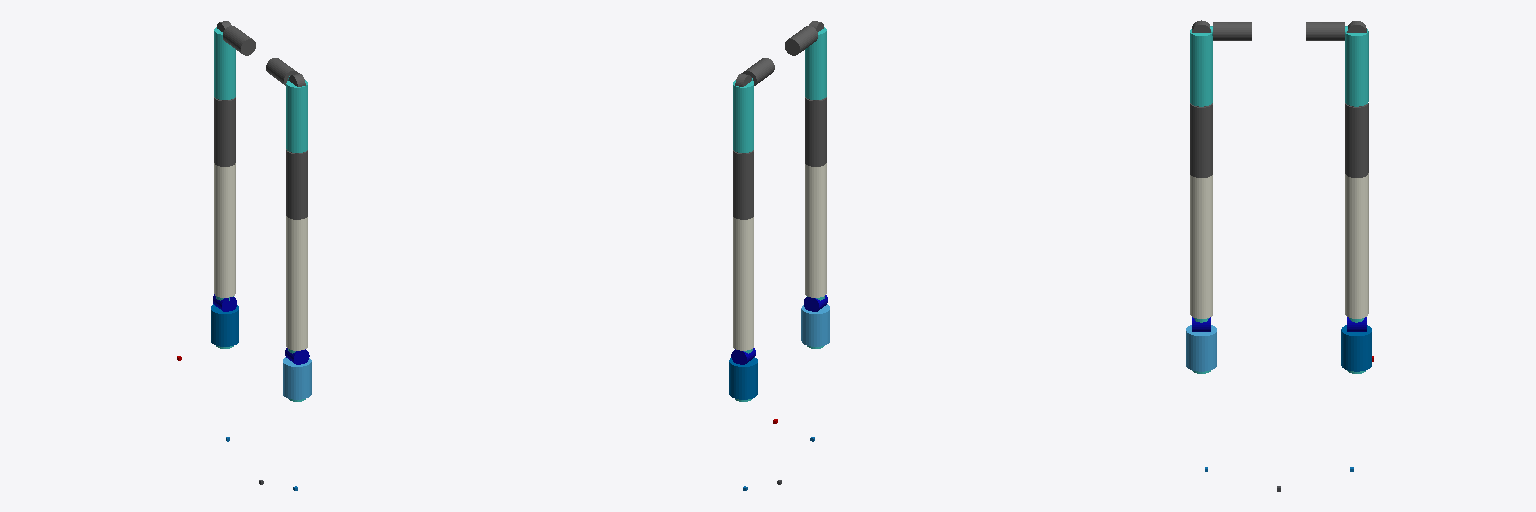
--- Render facts (derived) ---
Views: 3 orthographic renders of the robot side by side, from view 1: azimuth 30°, elevation 25°; view 2: azimuth 150°, elevation 25°; view 3: azimuth 270°, elevation 25°.
Model buff_digit with 51 links and 50 joints (12 revolute, 18 continuous, 20 fixed), rooted at footprint, posed all joints at 0.
Visible links, largest first — view 1: right_link4, left_link4, right_link2, right_link3, left_link3, left_link2, right_gripper_base, left_gripper_base, left_attach; view 2: right_link4, left_link4, right_link3, left_link2, left_link3, right_link2, left_gripper_base, right_gripper_base, right_attach; view 3: left_link4, right_link4, left_link2, left_link3, right_link2, right_link3, right_gripper_base, left_gripper_base, right_attach, left_attach.
Boxes of the visible links, x1=… form: right_link4: x1=286, y1=216, x2=307, y2=350; left_link4: x1=214, y1=163, x2=235, y2=297; right_link2: x1=286, y1=80, x2=307, y2=152; right_link3: x1=286, y1=149, x2=307, y2=219; left_link3: x1=214, y1=97, x2=235, y2=166; left_link2: x1=214, y1=27, x2=235, y2=99; right_gripper_base: x1=283, y1=357, x2=311, y2=399; left_gripper_base: x1=211, y1=304, x2=238, y2=346; left_attach: x1=223, y1=26, x2=255, y2=55; right_link4: x1=805, y1=163, x2=826, y2=297; left_link4: x1=733, y1=217, x2=753, y2=350; right_link3: x1=805, y1=97, x2=826, y2=166; left_link2: x1=733, y1=80, x2=753, y2=152; left_link3: x1=733, y1=150, x2=753, y2=219; right_link2: x1=805, y1=27, x2=826, y2=99; left_gripper_base: x1=729, y1=357, x2=757, y2=399; right_gripper_base: x1=801, y1=304, x2=829, y2=346; right_attach: x1=785, y1=26, x2=817, y2=55; left_link4: x1=1345, y1=173, x2=1368, y2=318; right_link4: x1=1190, y1=175, x2=1212, y2=318; left_link2: x1=1345, y1=29, x2=1368, y2=106; left_link3: x1=1345, y1=103, x2=1368, y2=177; right_link2: x1=1190, y1=29, x2=1212, y2=106; right_link3: x1=1190, y1=103, x2=1212, y2=177; right_gripper_base: x1=1186, y1=325, x2=1216, y2=371; left_gripper_base: x1=1341, y1=325, x2=1371, y2=371; right_attach: x1=1213, y1=22, x2=1251, y2=40; left_attach: x1=1306, y1=22, x2=1344, y2=40.
Bounding box of the posed robot: 0.3651 × 0.4839 × 1.33 m (x, y, z).
Meshes: 9 distinct files referenced, 0 mesh visuals loaded (none loaded); not drawn: 17 (reference not matched to a file when rendering).

robot.urdf — buff_digit:
<robot name="buff_digit" >

  <material name="black">
    <color rgba="0.2 0.2 0.2 1.0"/>
  </material>
  <material name="blue">
    <color rgba="1.0 1.0 1.0 1.0"/>
  </material>
  <material name="green">
    <color rgba="1.0 1.0 1.0 1.0"/>
  </material>
  <material name="grey">
    <color rgba="0.4 0.4 0.4 1.0"/>
  </material>
  <material name="silver">
    <color rgba="0.913725490196 0.913725490196 0.847058823529 1.0"/>
  </material>
  <material name="orange">
    <color rgba="1.0 1.0 1.0 1.0"/>
  </material>
  <material name="brown">
    <color rgba="0.870588235294 0.811764705882 0.764705882353 1.0"/>
  </material>
  <material name="red">
    <color rgba="1.0 1.0 1.0 1.0"/>
  </material>
  <material name="white">
    <color rgba="1.0 1.0 1.0 1.0"/>
  </material>
  <material name="scarlet">
    <color rgba="0.28 0.82 0.8 1"/>
  </material>




<link name="torso">
    <inertial>
      <origin rpy="0 0 0" xyz="0.001637 0.0002 0.259547"/>
      <mass value="0.028392"/>
      <inertia ixx="0.376284" ixy="-8.8e-05" ixz="0.008378" iyy="0.342655" iyz="6.7e-05" izz="0.100648"/>
    </inertial>
    <visual>
      <origin rpy="0 0 0" xyz="0 0 0"/>
      <geometry>
        <mesh filename="stl/torso.stl"/>
      </geometry>
      <material name="scarlet"/> 
    </visual>
    <collision>
      <origin rpy="0 0 0" xyz="0 0 0"/>
      <geometry>
        <mesh filename="stl/torso.stl"/>
      </geometry>
    </collision>
  </link>


 
  <!-- LEGS -->
  <link name="left_hip_roll">
    <inertial>
      <origin rpy="0 0 0" xyz="-0.001967 0.000244 0.031435"/>
      <mass value="0.915088"/>
      <inertia ixx="0.001017" ixy="-3e-06" ixz="1.3e-05" iyy="0.001148" iyz="-4e-06" izz="0.000766"/>
    </inertial>
    <visual>
      <origin rpy="0 0 0" xyz="0 0 0"/>
      <geometry>
        <mesh filename="stl/hip-yaw-housing.stl"/>
      </geometry>
      <material name="grey">
        <color rgba="0.35 0.35 0.35 1"/>
      </material>
    </visual>
    <collision>
      <origin rpy="0 0 0" xyz="0 0 0"/>
      <geometry>
        <mesh filename="stl/hip-yaw-housing.stl"/>
      </geometry>
    </collision>
  </link>
  <link name="left_hip_yaw">
    <inertial>
      <origin rpy="0 0 0" xyz="1e-05 -0.001945 0.042033"/>
      <mass value="0.818753"/>
      <inertia ixx="0.001627" ixy="-1e-06" ixz="2e-06" iyy="0.001929" iyz="5.3e-05" izz="0.00077"/>
    </inertial>
    <visual>
      <origin rpy="0 0 0" xyz="0 0 0"/>
      <geometry>
        <mesh filename="stl/hip-pitch-housing.stl"/>
      </geometry>
      <material name="light_grey">
        <color rgba="0.75 0.75 0.75 1"/>
      </material>
    </visual>
     <collision>
      <origin rpy="0 0 0" xyz="0 0 0"/>
      <geometry>
        <mesh filename="stl/hip-pitch-housing.stl"/>
      </geometry>
    </collision>
  </link>
  <link name="left_hip_pitch">
    <inertial>
      <origin rpy="0 0 0" xyz="0.060537 0.000521 -0.038857"/>
      <mass value="6.244279"/>
      <inertia ixx="0.011533" ixy="-0.000171" ixz="0.000148" iyy="0.033345" iyz="0.000178" izz="0.033958"/>
    </inertial>
    <visual>
      <origin rpy="0 0 0" xyz="0 0 0"/>
      <geometry>
        <mesh filename="stl/hip-pitch.stl"/>
      </geometry>
      <material name="scarlet"/> 
    </visual>
    <collision>
      <origin rpy="0 0 0" xyz="0 0 0"/>
      <geometry>
        <mesh filename="stl/hip-pitch.stl"/>
      </geometry>
    </collision>
  </link>
  <link name="left_knee">
    <inertial>
      <origin rpy="0 0 0" xyz="0.045641 0.042154 0.001657"/>
      <mass value="1.227077"/>
      <inertia ixx="0.002643" ixy="-0.001832" ixz="6.6e-05" iyy="0.005098" iyz="4.5e-05" izz="0.007019"/>
    </inertial>
    <visual>
      <origin rpy="0 0 0" xyz="0 0 0"/>
      <geometry>
        <mesh filename="stl/knee.stl"/>
      </geometry>
      <material name="grey">
        <color rgba="0.35 0.35 0.35 1"/>
      </material>
    </visual>
    <collision>
      <origin rpy="0 0 0" xyz="0 0 0"/>
      <geometry>
        <mesh filename="stl/knee.stl"/>
      </geometry>
    </collision>
  </link>
  <link name="left_shin">
    <inertial>
      <origin rpy="0 0 0" xyz="0.174265 0.010265 0.00107"/>
      <mass value="0.895793"/>
      <inertia ixx="0.001128" ixy="0.001098" ixz="0.000196" iyy="0.022492" iyz="-3e-06" izz="0.022793"/>
    </inertial>
    <visual>
      <origin rpy="0 0 0" xyz="0 0 0"/>
      <geometry>
        <mesh filename="stl/shin.stl"/>
      </geometry>
      <material name="scarlet"/> 
    </visual>
    <collision>
      <origin rpy="0 0 0" xyz="0 0 0"/>
      <geometry>
        <mesh filename="stl/shin.stl"/>
      </geometry>
    </collision>
  </link>
 <link name="left_tarsus">
    <inertial>
      <origin rpy="0 0 0" xyz="0.000932 -0.029183 0.000678"/>
      <mass value="1.322865"/>
      <inertia ixx="0.000932" ixy="0.00061" ixz="0.000102" iyy="0.016409" iyz="9e-06" izz="0.016501"/>
    </inertial>
    <visual>
      <origin rpy="0 0 0" xyz="0 0 0"/>
      <geometry>
        <mesh filename="stl/tarsus.stl"/>
      </geometry>
      <material name="grey">
        <color rgba="0.35 0.35 0.35 1"/>
      </material>
    </visual>
    <collision>
      <origin rpy="0 0 0" xyz="0 0 0"/>
      <geometry>
        <!-- <mesh filename="stl/tarsus.stl"/> -->
        <box size="0.01 0.01 0.01"/>
      </geometry>
    </collision>
  </link>
  <link name="left_toe_pitch">
    <inertial>
      <origin rpy="0 0 0" xyz="-0.000141 2e-06 3e-06"/>
      <mass value="0.043881"/>
      <inertia ixx="5e-06" ixy="0" ixz="0" iyy="8e-06" iyz="0" izz="5e-06"/>
    </inertial>
    <visual>
      <origin rpy="0 0 0" xyz="0 0 0"/>
      <geometry>
        <mesh filename="stl/toe-pitch.stl"/>
      </geometry>
      <material name="light_grey">
        <color rgba="0.75 0.75 0.75 1"/>
      </material>
    </visual>
    <collision>
      <origin rpy="0 0 0" xyz="0 0 0"/>
      <geometry>
        <!-- <mesh filename="stl/toe-pitch.stl"/> -->
        <box size="0.001 0.001 0.001"/>
      </geometry>
    </collision>
  </link>
  <link name="left_toe_roll">
    <inertial>
      <origin rpy="0 0 0" xyz="9e-06 -0.028084 -0.023204"/>
      <mass value="0.531283"/>
      <inertia ixx="0.00187" ixy="0" ixz="0" iyy="0.001616" iyz="0.000566" izz="0.000843"/>
    </inertial>
    <visual>
      <origin rpy="0 0 0" xyz="0 0 0"/>
      <geometry>
        <mesh filename="stl/toe-roll.stl"/>
      </geometry>
      <material name="light_grey">
        <color rgba="0.75 0.75 0.75 1"/>
      </material>
    </visual>
    <collision>
      <origin rpy="0 0 0" xyz="0 0 0"/>
      <geometry>
        <!-- <mesh filename="stl/toe-roll.stl"/> -->
        <box size="0.01 0.01 0.01"/>
      </geometry>
    </collision>
  </link>



  <!-- left arm -->
    
 <joint name="left_attach_to_torso" type="fixed">
    <origin rpy="0 0 0" xyz="-0.001 0.12 0.4"/>
     <parent link="torso"/>
    <child link="left_attach"/>
   </joint>

<link name="left_attach">
    <inertial>
      <origin rpy="0 0 0" xyz="0 0 0"/>
       <mass value=".01"/>
       <inertia ixx="0" ixy="0" ixz="0" iyy="0" iyz="0" izz="0"/>
    </inertial>
    <visual>
      <origin rpy="1.5707  0 0" xyz="0 0 0"/>
      <geometry>
        <cylinder radius="0.025" length="0.1"/>
      </geometry>
       <material name="grey"/>
    </visual>
    <collision>
      <origin rpy="1.5707 0 0" xyz="0 0 0"/>
      <geometry>
        <cylinder radius="0.025" length="0.1"/>
      </geometry>
    </collision>
  </link>

  <joint name="left_arm_to_left_attach" type="fixed">
    <origin rpy="0 0 0" xyz="0 0 0"/>
     <parent link="left_attach"/>
    <child link="left_jlink0"/>
   </joint>

 <link name="left_jlink0">
    <inertial>
      <origin rpy="0 0 0" xyz="0 0 0"/>
       <mass value=".01"/>
       <inertia ixx="0" ixy="0" ixz="0" iyy="0" iyz="0" izz="0"/>
    </inertial>
    <visual>
      <origin rpy="1.5707  0 0" xyz="0 0 0"/>
      <geometry>
        <cylinder radius="0.025" length="0.025"/>
      </geometry>
       <material name="grey"/>
    </visual>
    <collision>
      <origin rpy="1.5707 0 0" xyz="0 0 0"/>
      <geometry>
        <cylinder radius="0.025" length="0.025"/>
      </geometry>
    </collision>
  </link>

  <link name="left_link1">
    <inertial>
      <origin rpy="0 0 0" xyz="0 0 0"/>
       <mass value=".000000001"/>
       <inertia ixx="0" ixy="0" ixz="0" iyy="0" iyz="0" izz="0"/>
    </inertial>
    <visual>
      <origin rpy="1.5707 0 0" xyz="0 0 0"/>
      <geometry>
       <cylinder radius="0.0125" length="0.08"/>
       <!-- <box size = "0.025 0.08 0.025"/> -->
      </geometry>
       <material name="scarlet"/> 
    </visual>
    <collision>
      <origin rpy="1.5707 0 0" xyz="0 0 0"/>
      <geometry>
       <cylinder radius="0.0125" length="0.08"/>
      </geometry>
    </collision>
  </link>

  <joint name="left_joint1f" type="revolute"> 
    <parent link="left_jlink0"/>
    <child link="left_link1"/>
    <origin rpy="0 0 0" xyz="0 0.04 0.0"/>  
    <axis xyz="0 1 0"/>
    <limit lower="-3.1415" upper="3.1415" effort="1.4" velocity="0.25"/>
  </joint>

  <link name="left_jlink1">
    <inertial>
      <origin rpy="0 0 0" xyz="0 0 0"/>
       <mass value=".01"/>
       <inertia ixx="0" ixy="0" ixz="0" iyy="0" iyz="0" izz="0"/>
    </inertial>
    <visual>
      <origin rpy="0 1.5707 0" xyz="0 0 0"/>
      <geometry>
        <cylinder radius="0.025" length="0.025"/>
      </geometry>
       <material name="grey"/>
    </visual>
    <collision>
      <origin rpy="0 1.5707 0" xyz="0 0 0"/>
      <geometry>
        <cylinder radius="0.025" length="0.025"/>
      </geometry>
    </collision>
</link>

  <joint name="left_joint1" type="revolute">
    <parent link="left_link1"/>
    <child link="left_jlink1"/>
    <origin rpy="0 0 0" xyz="0 0.04 0"/> 
    <axis xyz="1 0 0"/>
    <limit lower="-3.1415" upper="3.1415" effort="1.4" velocity="0.25"/>  
  </joint>

  <link name="left_link2">
    <inertial>
      <origin rpy="0 0 0" xyz="0 0 0"/>
       <mass value=".000000001"/>
       <inertia ixx="0" ixy="0" ixz="0" iyy="0" iyz="0" izz="0"/>
    </inertial>
    <visual>
      <origin rpy="0 0 0" xyz="0 0 0"/>
      <geometry>
       <cylinder radius="0.03" length="0.2"/>
      </geometry>
       <material name="scarlet"/> 
    </visual>
    <collision>
      <origin rpy="0 0 0" xyz="0 0 0"/>
      <geometry>
       <cylinder radius="0.03" length="0.2"/>
      </geometry>
    </collision>
</link>

<joint name="left_joint2f" type="fixed">
    <parent link="left_jlink1"/>
    <child link="left_link2"/>
    <origin rpy="0 0 0" xyz="0 0  -0.1"/> 
    <!-- <axis xyz="1 0 0"/>
    <limit lower="-3.1415" upper="3.1415" effort="1.4" velocity="0.25"/> -->    
</joint>

<link name="left_jlink2">
    <inertial>
      <origin rpy="0 0 0" xyz="0 0 0"/>
       <mass value=".01"/>
       <inertia ixx="0" ixy="0" ixz="0" iyy="0" iyz="0" izz="0"/>
    </inertial>
    <visual>
      <origin rpy="0 0 0" xyz="0 0 0"/>
      <geometry>
        <cylinder radius="0.025" length="0.025"/>
      </geometry>
       <material name="grey"/>
    </visual>
    <collision>
      <origin rpy="0 0 0" xyz="0 0 0"/>
      <geometry>
        <cylinder radius="0.025" length="0.025"/>
      </geometry>
    </collision>
</link>

<joint name="left_joint2" type="fixed">
    <parent link="left_link2"/>
    <child link="left_jlink2"/>
    <origin rpy="0 0 0" xyz="0 0 -0.1"/> 
    <!-- <axis xyz="0 0 1"/>
    <limit lower="-3.1415" upper="3.1415" effort="1.4" velocity="0.25"/>   -->
  </joint>

  <link name="left_link3">
    <inertial>
      <origin rpy="0 0 0" xyz="0 0 0"/>
       <mass value=".000000001"/>
       <inertia ixx="0" ixy="0" ixz="0" iyy="0" iyz="0" izz="0"/>
    </inertial>
    <visual>
      <origin rpy="0 0 0" xyz="0 0 0"/>
      <geometry>
       <cylinder radius="0.03" length="0.2"/>
      </geometry>
       <material name="grey"/> 
    </visual>
    <collision>
      <origin rpy="0 0 0" xyz="0 0 0"/>
      <geometry>
       <cylinder radius="0.03" length="0.2"/>
      </geometry>
    </collision>
</link>

<joint name="left_joint3f" type="fixed">
    <parent link="left_jlink2"/>
    <child link="left_link3"/>
    <origin rpy="0 0 0" xyz="0 0  -0.1035"/>   
</joint>

<link name="left_jlink3">
    <inertial>
      <origin rpy="0 0 0" xyz="0 0 0"/>
       <mass value=".01"/>
       <inertia ixx="0" ixy="0" ixz="0" iyy="0" iyz="0" izz="0"/>
    </inertial>
    <visual>
      <origin rpy="0 1.5707 0" xyz="0 0 0"/>
      <geometry>
        <cylinder radius="0.025" length="0.025"/>
      </geometry>
       <material name="scarlet"/>
    </visual>
    <collision>
      <origin rpy="0 1.5707 0" xyz="0 0 0"/>
      <geometry>
        <cylinder radius="0.025" length="0.025"/>
      </geometry>
    </collision>
</link>

<joint name="left_joint3" type="revolute">
    <parent link="left_link3"/>
    <child link="left_jlink3"/>
    <origin rpy="0 0 0" xyz="0 0.0 -0.1"/> 
    <axis xyz="1 0 0"/>
    <limit lower="-3.1415" upper="3.1415" effort="1.4" velocity="0.25"/>  
  </joint>

  <link name="left_link4">
    <inertial>
      <origin rpy="0 0 0" xyz="0 0 0"/>
       <mass value=".000000001"/>
       <inertia ixx="0" ixy="0" ixz="0" iyy="0" iyz="0" izz="0"/>
    </inertial>
    <visual>
      <origin rpy="0 0 0" xyz="0 0 0"/>
      <geometry>
       <cylinder radius="0.03" length="0.4"/>
      </geometry>
       <material name="silver"/> 
    </visual>
    <collision>
      <origin rpy="0 0 0" xyz="0 0 0"/>
      <geometry>
       <cylinder radius="0.03" length="0.4"/>
      </geometry>
    </collision>
</link>

<joint name="left_joint4f" type="fixed">
    <parent link="left_jlink3"/>
    <child link="left_link4"/>
    <origin rpy="0 0 0" xyz="0 0  -0.2"/>   
</joint>

<link name="left_jlink4">
    <inertial>
      <origin rpy="0 0 0" xyz="0.107996 0.000521 -0.017765"/>
      <mass value="0.550582"/>
      <inertia ixx="0.000476" ixy="-2.9e-05" ixz="0.001403" iyy="0.009564" iyz="-1.5e-05" izz="-9e-06"/>
    </inertial>
    <visual>
      <origin rpy="0 0 0 " xyz="0 0 0"/>
      <geometry>
        <cylinder radius="0.025" length="0.025"/>
      </geometry>
      <material name="scarlet"/> 
    </visual>
    <collision>
      <origin rpy="0 0 0" xyz="0 0 0"/>
      <geometry>
        <cylinder radius="0.025" length="0.025"/>
      </geometry>
    </collision>
</link>

<joint name="left_joint4" type="revolute">
    <origin rpy="0 0 0" xyz="0.0 0.0 -0.2"/>
    <parent link="left_link4"/>
    <child link="left_jlink4"/>
    <axis xyz="0 0 1"/>
    <limit effort="1.4" lower="-1.57" upper="1.57" velocity="10"/>
  </joint>

<link name="left_wrist">
    <inertial>
      <origin rpy="0 0 0" xyz="0.107996 0.000521 -0.017765"/>
      <mass value="0.550582"/>
      <inertia ixx="0.000476" ixy="-2.9e-05" ixz="0.001403" iyy="0.009564" iyz="-1.5e-05" izz="-9e-06"/>
    </inertial>
    <visual>
      <origin rpy="0 1.5707 1.5707 " xyz="0 0 0"/>
      <geometry>
        <cylinder radius="0.025" length="0.05"/>
      </geometry>
      <material name="blue">
        <color rgba="0.05 0.05 0.75 0.9"/>
      </material>
    </visual>
    <collision>
      <origin rpy="0 1.5707 1.5707" xyz="0 0 0"/>
      <geometry>
        <cylinder radius="0.025" length="0.05"/>
      </geometry>
    </collision>
  </link>
  <joint name="left_wrist_joint" type="revolute">
    <origin rpy="0 1.5707 0" xyz="0.0 0.0 -0.025"/>
    <parent link="left_jlink4"/>
    <child link="left_wrist"/>
    <axis xyz="0 1 0"/>
    <limit effort="1.4" lower="-1.57" upper="1.57" velocity="10"/>
  </joint>

  <link name="left_gripper_base">
    <inertial>
      <origin rpy="0 0 0" xyz="0 0 0"/>
      <mass value="0.2"/>
      <inertia ixx="0.0001" ixy="0" ixz="0" iyy="0.0001" iyz="0" izz="0.0001"/>
    </inertial>
    <visual>
      <origin rpy="0 1.5707 0" xyz="0 0 0"/>
      <geometry>
        <!-- <mesh filename="[local-path]/garage/kfp_v2/morpheus/models/yumi_description/meshes/gripper/base.stl"/> -->
        <cylinder radius="0.04" length="0.1"/>
      </geometry>
      <material name="Light_Grey"/>
    </visual>
    <collision>
      <origin rpy="0 1.5707 0" xyz="0 0 0"/>
      <geometry>
        <!-- <mesh filename="[local-path]/garage/kfp_v2/morpheus/models/yumi_description/meshes/gripper/coarse/base.stl"/> -->
       <cylinder radius="0.04" length="0.1"/>
      </geometry>
      <material name="Light_Grey"/>
    </collision>
  </link>

  <joint name="gripper_left_wrist_joint" type="revolute">
    <origin rpy="0 0 0" xyz="0.07 0 0"/>
    <parent link="left_wrist"/>
    <child link="left_gripper_base"/>
    <axis xyz="1 0 0"/>
    <limit effort="1.4" lower="-1.57" upper="1.57" velocity="10"/>
  </joint>

  <link name="left_gripper_ee">
    <inertial>
      <origin rpy="0 0 0" xyz="0 0 0"/>
      <mass value="0.2"/>
      <inertia ixx="0.0001" ixy="0" ixz="0" iyy="0.0001" iyz="0" izz="0.0001"/>
    </inertial>
    <visual>
      <origin rpy="0 1.5707 0" xyz="0 0 0"/>
      <geometry>        
       <cylinder radius="0.025" length="0.025"/>
      </geometry>
      <material name="scarlet"/>
    </visual>
    <collision>
      <origin rpy="0 1.5707 0" xyz="0 0 0"/>
      <geometry>
       <cylinder radius="0.025" length="0.025"/>
      </geometry> 
    </collision>
  </link>
  <joint name="left_gripper_baseee_to_gripper_base" type="fixed">
    <origin rpy="0 0 0" xyz="0.05125 0.0 0"/>
    <parent link="left_gripper_base"/>
    <child link="left_gripper_ee"/>
  </joint>










<!-- right leg -->
  <link name="right_hip_roll">
    <inertial>
      <origin rpy="0 0 0" xyz="-0.001967 -0.000244 0.031435"/>
      <mass value="0.915088"/>
      <inertia ixx="0.001017" ixy="3e-06" ixz="1.3e-05" iyy="0.001148" iyz="4e-06" izz="0.000766"/>
    </inertial>
    <visual>
      <origin rpy="0 0 0" xyz="0 0 0"/>
      <geometry>
        <mesh filename="stl/hip-yaw-housing.stl" scale="1 -1 1"/>
      </geometry>
      <material name="grey">
        <color rgba="0.35 0.35 0.35 1"/>
      </material>
    </visual>
    <collision>
      <origin rpy="0 0 0" xyz="0 0 0"/>
      <geometry>
        <mesh filename="stl/hip-yaw-housing.stl" scale="1 -1 1"/>
      </geometry>
    </collision>
  </link>
  <link name="right_hip_yaw">
    <inertial>
      <origin rpy="0 0 0" xyz="1e-05 0.001945 0.042033"/>
      <mass value="0.818753"/>
      <inertia ixx="0.001627" ixy="1e-06" ixz="2e-06" iyy="0.001929" iyz="-5.3e-05" izz="0.00077"/>
    </inertial>
    <visual>
      <origin rpy="0 0 0" xyz="0 0 0"/>
      <geometry>
        <mesh filename="stl/hip-pitch-housing.stl" scale="1 -1 1"/>
      </geometry>
      <material name="light_grey">
        <color rgba="0.75 0.75 0.75 1"/>
      </material>
    </visual>
    <collision>
      <origin rpy="0 0 0" xyz="0 0 0"/>
      <geometry>
        <mesh filename="stl/hip-pitch-housing.stl" scale="1 -1 1"/>
      </geometry>
    </collision>
  </link>
  <link name="right_hip_pitch">
    <inertial>
      <origin rpy="0 0 0" xyz="0.060537 -0.000521 -0.038857"/>
      <mass value="6.244279"/>
      <inertia ixx="0.011533" ixy="0.000171" ixz="0.000148" iyy="0.033345" iyz="-0.000178" izz="0.033958"/>
    </inertial>
    <visual>
      <origin rpy="0 0 0" xyz="0 0 0"/>
      <geometry>
        <mesh filename="stl/hip-pitch.stl" scale="1 -1 1"/>
      </geometry>
      <material name="scarlet"/> 
    </visual>
    <collision>
      <origin rpy="0 0 0" xyz="0 0 0"/>
      <geometry>
        <mesh filename="stl/hip-pitch.stl" scale="1 -1 1"/>
      </geometry>
    </collision>
  </link>
  <link name="right_knee">
    <inertial>
      <origin rpy="0 0 0" xyz="0.045641 -0.042154 0.001657"/>
      <mass value="1.227077"/>
      <inertia ixx="0.002643" ixy="0.001832" ixz="6.6e-05" iyy="0.005098" iyz="-4.5e-05" izz="0.007019"/>
    </inertial>
    <visual>
      <origin rpy="0 0 0" xyz="0 0 0"/>
      <geometry>
        <mesh filename="stl/knee.stl" scale="1 -1 1"/>
      </geometry>
      <material name="grey">
        <color rgba="0.35 0.35 0.35 1"/>
      </material>
    </visual>
    <collision>
      <origin rpy="0 0 0" xyz="0 0 0"/>
      <geometry>
        <mesh filename="stl/knee.stl" scale="1 -1 1"/>
      </geometry>
    </collision>
  </link>
  <link name="right_shin">
    <inertial>
      <origin rpy="0 0 0" xyz="0.174265 -0.010265 0.00107"/>
      <mass value="0.895793"/>
      <inertia ixx="0.001128" ixy="-0.001098" ixz="0.000196" iyy="0.022492" iyz="3e-06" izz="0.022793"/>
    </inertial>
    <visual>
      <origin rpy="0 0 0" xyz="0 0 0"/>
      <geometry>
        <mesh filename="stl/shin.stl" scale="1 -1 1"/>
      </geometry>
      <material name="scarlet"/> 
    </visual>
    <collision>
      <origin rpy="0 0 0" xyz="0 0 0"/>
      <geometry>
        <mesh filename="stl/shin.stl" scale="1 -1 1"/>
      </geometry>
    </collision>
  </link>
  <link name="right_tarsus">
    <inertial>
      <origin rpy="0 0 0" xyz="0.000932 0.029183 0.000678"/>
      <mass value="1.322865"/>
      <inertia ixx="0.000932" ixy="-0.00061" ixz="0.000102" iyy="0.016409" iyz="-9e-06" izz="0.016501"/>
    </inertial>
    <visual>
      <origin rpy="0 0 0" xyz="0 0 0"/>
      <geometry>
        <mesh filename="stl/tarsus.stl" scale="1 -1 1"/>
      </geometry>
      <material name="grey">
        <color rgba="0.35 0.35 0.35 1"/>
      </material>
    </visual>
    <collision>
      <origin rpy="0 0 0" xyz="0 0 0"/>
      <geometry>
         <box size="0.01 0.01 0.01"/>
      </geometry>
    </collision>
  </link>
  <link name="right_toe_pitch">
    <inertial>
      <origin rpy="0 0 0" xyz="-0.000141 -2e-06 3e-06"/>
      <mass value="0.043881"/>
      <inertia ixx="5e-06" ixy="0" ixz="0" iyy="8e-06" iyz="0" izz="5e-06"/>
    </inertial>
    <visual>
      <origin rpy="0 0 0" xyz="0 0 0"/>
      <geometry>
        <mesh filename="stl/toe-pitch.stl" scale="1 -1 1"/>
      </geometry>
      <material name="light_grey">
        <color rgba="0.75 0.75 0.75 1"/>
      </material>
    </visual>
    <collision>
      <origin rpy="0 0 0" xyz="0 0 0"/>
      <geometry>
         <box size="0.001 0.001 0.001"/>
      </geometry>
    </collision>
  </link>
  <link name="right_toe_roll">
    <inertial>
      <origin rpy="0 0 0" xyz="9e-06 0.028084 -0.023204"/>
      <mass value="0.531283"/>
      <inertia ixx="0.00187" ixy="0" ixz="0" iyy="0.001616" iyz="-0.000566" izz="0.000843"/>
    </inertial>
    <visual>
      <origin rpy="0 0 0" xyz="0 0 0"/>
      <geometry>
        <mesh filename="stl/toe-roll.stl" scale="1 -1 1"/>
      </geometry>
      <material name="light_grey">
        <color rgba="0.75 0.75 0.75 1"/>
      </material>
    </visual>
    <collision>
      <origin rpy="0 0 0" xyz="0 0 0"/>
      <geometry>
         <box size="0.01 0.01 0.01"/>
      </geometry>
    </collision>
  </link>




  <!-- right arm -->
   <joint name="right_attach_to_torso" type="fixed">
    <origin rpy="0 0 0" xyz="-0.001 -0.12 0.4"/>
     <parent link="torso"/>
    <child link="right_attach"/>
   </joint>

   <link name="right_attach">
    <inertial>
      <origin rpy="0 0 0" xyz="0 0 0"/>
       <mass value=".01"/>
       <inertia ixx="0" ixy="0" ixz="0" iyy="0" iyz="0" izz="0"/>
    </inertial>
    <visual>
      <origin rpy="1.5707  0 0" xyz="0 0 0"/>
      <geometry>
        <cylinder radius="0.025" length="0.1"/>
      </geometry>
       <material name="grey"/>
    </visual>
    <collision>
      <origin rpy="1.5707 0 0" xyz="0 0 0"/>
      <geometry>
        <cylinder radius="0.025" length="0.1"/>
      </geometry>
    </collision>
  </link>

  <joint name="right_arm_to_right_attach" type="fixed">
    <origin rpy="0 0 0" xyz="0 0 0"/>
     <parent link="right_attach"/>
    <child link="right_jlink0"/>
   </joint>



  <link name="right_jlink0">
    <inertial>
      <origin rpy="0 0 0" xyz="0 0 0"/>
       <mass value=".01"/>
       <inertia ixx="0" ixy="0" ixz="0" iyy="0" iyz="0" izz="0"/>
    </inertial>
    <visual>
      <origin rpy="1.5707  0 0" xyz="0 0 0"/>
      <geometry>
        <cylinder radius="0.025" length="0.025"/>
      </geometry>
       <material name="grey"/>
    </visual>
    <collision>
      <origin rpy="1.5707 0 0" xyz="0 0 0"/>
      <geometry>
        <cylinder radius="0.025" length="0.025"/>
      </geometry>
    </collision>
  </link>

  <link name="right_link1">
    <inertial>
      <origin rpy="0 0 0" xyz="0 0 0"/>
       <mass value=".000000001"/>
       <inertia ixx="0" ixy="0" ixz="0" iyy="0" iyz="0" izz="0"/>
    </inertial>
    <visual>
      <origin rpy="1.5707 0 0" xyz="0 0 0"/>
      <geometry>
       <cylinder radius="0.0125" length="0.08"/>
       <!-- <box size = "0.025 0.08 0.025"/> -->
      </geometry>
       <material name="scarlet"/> 
    </visual>
    <collision>
      <origin rpy="1.5707 0 0" xyz="0 0 0"/>
      <geometry>
       <cylinder radius="0.0125" length="0.08"/>
      </geometry>
    </collision>
  </link>

  <joint name="right_joint1f" type="revolute"> 
    <parent link="right_jlink0"/>
    <child link="right_link1"/>
    <origin rpy="0 0 0" xyz="0 -0.04 0.0"/>  
    <axis xyz="0 1 0"/>
    <limit lower="-3.1415" upper="3.1415" effort="1.4" velocity="0.25"/>
  </joint>

  <link name="right_jlink1">
    <inertial>
      <origin rpy="0 0 0" xyz="0 0 0"/>
       <mass value=".01"/>
       <inertia ixx="0" ixy="0" ixz="0" iyy="0" iyz="0" izz="0"/>
    </inertial>
    <visual>
      <origin rpy="0 1.5707 0" xyz="0 0 0"/>
      <geometry>
        <cylinder radius="0.025" length="0.025"/>
      </geometry>
       <material name="grey"/>
    </visual>
    <collision>
      <origin rpy="0 1.5707 0" xyz="0 0 0"/>
      <geometry>
        <cylinder radius="0.025" length="0.025"/>
      </geometry>
    </collision>
</link>

  <joint name="right_joint1" type="revolute">
    <parent link="right_link1"/>
    <child link="right_jlink1"/>
    <origin rpy="0 0 0" xyz="0 -0.04 0"/> 
    <axis xyz="1 0 0"/>
    <limit lower="-3.1415" upper="3.1415" effort="1.4" velocity="0.25"/>  
  </joint>

  <link name="right_link2">
    <inertial>
      <origin rpy="0 0 0" xyz="0 0 0"/>
       <mass value=".000000001"/>
       <inertia ixx="0" ixy="0" ixz="0" iyy="0" iyz="0" izz="0"/>
    </inertial>
    <visual>
      <origin rpy="0 0 0" xyz="0 0 0"/>
      <geometry>
       <cylinder radius="0.03" length="0.2"/>
      </geometry>
       <material name="scarlet"/> 
    </visual>
    <collision>
      <origin rpy="0 0 0" xyz="0 0 0"/>
      <geometry>
       <cylinder radius="0.03" length="0.2"/>
      </geometry>
    </collision>
</link>

<joint name="right_joint2f" type="fixed">
    <parent link="right_jlink1"/>
    <child link="right_link2"/>
    <origin rpy="0 0 0" xyz="0 0  -0.1"/>      
</joint>

<link name="right_jlink2">
    <inertial>
      <origin rpy="0 0 0" xyz="0 0 0"/>
       <mass value=".01"/>
       <inertia ixx="0" ixy="0" ixz="0" iyy="0" iyz="0" izz="0"/>
    </inertial>
    <visual>
      <origin rpy="0 0 0" xyz="0 0 0"/>
      <geometry>
        <cylinder radius="0.025" length="0.025"/>
      </geometry>
       <material name="grey"/>
    </visual>
    <collision>
      <origin rpy="0 0 0" xyz="0 0 0"/>
      <geometry>
        <cylinder radius="0.025" length="0.025"/>
      </geometry>
    </collision>
</link>

<joint name="right_joint2" type="fixed">
    <parent link="right_link2"/>
    <child link="right_jlink2"/>
    <origin rpy="0 0 0" xyz="0 0 -0.1"/>  
  </joint>

  <link name="right_link3">
    <inertial>
      <origin rpy="0 0 0" xyz="0 0 0"/>
       <mass value=".000000001"/>
       <inertia ixx="0" ixy="0" ixz="0" iyy="0" iyz="0" izz="0"/>
    </inertial>
    <visual>
      <origin rpy="0 0 0" xyz="0 0 0"/>
      <geometry>
       <cylinder radius="0.03" length="0.2"/>
      </geometry>
       <material name="grey"/> 
    </visual>
    <collision>
      <origin rpy="0 0 0" xyz="0 0 0"/>
      <geometry>
       <cylinder radius="0.03" length="0.2"/>
      </geometry>
    </collision>
</link>

<joint name="right_joint3f" type="fixed">
    <parent link="right_jlink2"/>
    <child link="right_link3"/>
    <origin rpy="0 0 0" xyz="0 0  -0.1035"/>   
</joint>

<link name="right_jlink3">
    <inertial>
      <origin rpy="0 0 0" xyz="0 0 0"/>
       <mass value=".01"/>
       <inertia ixx="0" ixy="0" ixz="0" iyy="0" iyz="0" izz="0"/>
    </inertial>
    <visual>
      <origin rpy="0 1.5707 0" xyz="0 0 0"/>
      <geometry>
        <cylinder radius="0.025" length="0.025"/>
      </geometry>
       <material name="scarlet"/>
    </visual>
    <collision>
      <origin rpy="0 1.5707 0" xyz="0 0 0"/>
      <geometry>
        <cylinder radius="0.025" length="0.025"/>
      </geometry>
    </collision>
</link>

<joint name="right_joint3" type="revolute">
    <parent link="right_link3"/>
    <child link="right_jlink3"/>
    <origin rpy="0 0 0" xyz="0 0.0 -0.1"/> 
    <axis xyz="1 0 0"/>
    <limit lower="-3.1415" upper="3.1415" effort="1.4" velocity="0.25"/>  
  </joint>

  <link name="right_link4">
    <inertial>
      <origin rpy="0 0 0" xyz="0 0 0"/>
       <mass value=".000000001"/>
       <inertia ixx="0" ixy="0" ixz="0" iyy="0" iyz="0" izz="0"/>
    </inertial>
    <visual>
      <origin rpy="0 0 0" xyz="0 0 0"/>
      <geometry>
       <cylinder radius="0.03" length="0.4"/>
      </geometry>
       <material name="silver"/> 
    </visual>
    <collision>
      <origin rpy="0 0 0" xyz="0 0 0"/>
      <geometry>
       <cylinder radius="0.03" length="0.4"/>
      </geometry>
    </collision>
</link>

<joint name="right_joint4f" type="fixed">
    <parent link="right_jlink3"/>
    <child link="right_link4"/>
    <origin rpy="0 0 0" xyz="0 0  -0.2"/>   
</joint>

<link name="right_jlink4">
    <inertial>
      <origin rpy="0 0 0" xyz="0.107996 0.000521 -0.017765"/>
      <mass value="0.550582"/>
      <inertia ixx="0.000476" ixy="-2.9e-05" ixz="0.001403" iyy="0.009564" iyz="-1.5e-05" izz="-9e-06"/>
    </inertial>
    <visual>
      <origin rpy="0 0 0 " xyz="0 0 0"/>
      <geometry>
        <cylinder radius="0.025" length="0.025"/>
      </geometry>
      <material name="scarlet"/> 
    </visual>
    <collision>
      <origin rpy="0 0 0" xyz="0 0 0"/>
      <geometry>
        <cylinder radius="0.025" length="0.025"/>
      </geometry>
    </collision>
</link>

<joint name="right_joint4" type="revolute">
    <origin rpy="0 0 0" xyz="0.0 0.0 -0.2"/>
    <parent link="right_link4"/>
    <child link="right_jlink4"/>
    <axis xyz="0 0 1"/>
    <limit effort="1.4" lower="-1.57" upper="1.57" velocity="10"/>
  </joint>

<link name="right_wrist">
    <inertial>
      <origin rpy="0 0 0" xyz="0.107996 0.000521 -0.017765"/>
      <mass value="0.550582"/>
      <inertia ixx="0.000476" ixy="-2.9e-05" ixz="0.001403" iyy="0.009564" iyz="-1.5e-05" izz="-9e-06"/>
    </inertial>
    <visual>
      <origin rpy="0 1.5707 1.5707 " xyz="0 0 0"/>
      <geometry>
        <cylinder radius="0.025" length="0.05"/>
      </geometry>
      <material name="blue">
        <color rgba="0.05 0.05 0.75 0.9"/>
      </material>
    </visual>
    <collision>
      <origin rpy="0 1.5707 1.5707" xyz="0 0 0"/>
      <geometry>
        <cylinder radius="0.025" length="0.05"/>
      </geometry>
    </collision>
  </link>
  <joint name="right_wrist_joint" type="revolute">
    <origin rpy="0 1.5707 0" xyz="0.0 0.0 -0.025"/>
    <parent link="right_jlink4"/>
    <child link="right_wrist"/>
    <axis xyz="0 1 0"/>
    <limit effort="1.4" lower="-1.57" upper="1.57" velocity="10"/>
  </joint>

  <link name="right_gripper_base">
    <inertial>
      <origin rpy="0 0 0" xyz="0 0 0"/>
      <mass value="0.2"/>
      <inertia ixx="0.0001" ixy="0" ixz="0" iyy="0.0001" iyz="0" izz="0.0001"/>
    </inertial>
    <visual>
      <origin rpy="0 1.5707 0" xyz="0 0 0"/>
      <geometry>
        <!-- <mesh filename="[local-path]/garage/kfp_v2/morpheus/models/yumi_description/meshes/gripper/base.stl"/> -->
        <cylinder radius="0.04" length="0.1"/>
      </geometry>
      <material name="Light_Grey"/>
    </visual>
    <collision>
      <origin rpy="0 1.5707 0" xyz="0 0 0"/>
      <geometry>
        <!-- <mesh filename="[local-path]/garage/kfp_v2/morpheus/models/yumi_description/meshes/gripper/coarse/base.stl"/> -->
       <cylinder radius="0.04" length="0.1"/>
      </geometry>
      <material name="Light_Grey"/>
    </collision>
  </link>

  <joint name="gripper_right_wrist_joint" type="revolute">
    <origin rpy="0 0 0" xyz="0.07 0 0"/>
    <parent link="right_wrist"/>
    <child link="right_gripper_base"/>
    <axis xyz="1 0 0"/>
    <limit effort="1.4" lower="-1.57" upper="1.57" velocity="10"/>
  </joint>

  <link name="right_gripper_ee">
    <inertial>
      <origin rpy="0 0 0" xyz="0 0 0"/>
      <mass value="0.2"/>
      <inertia ixx="0.0001" ixy="0" ixz="0" iyy="0.0001" iyz="0" izz="0.0001"/>
    </inertial>
    <visual>
      <origin rpy="0 1.5707 0" xyz="0 0 0"/>
      <geometry>        
       <cylinder radius="0.025" length="0.025"/>
      </geometry>
      <material name="scarlet"/>
    </visual>
    <collision>
      <origin rpy="0 1.5707 0" xyz="0 0 0"/>
      <geometry>
       <cylinder radius="0.025" length="0.025"/>
      </geometry> 
    </collision>
  </link>
  <joint name="right_gripper_baseee_to_gripper_base" type="fixed">
    <origin rpy="0 0 0" xyz="0.05125 0.0 0"/>
    <parent link="right_gripper_base"/>
    <child link="right_gripper_ee"/>
  </joint>









  
    
  <joint name="hip_abduction_left" type="continuous">
    <origin rpy="1.57079632679 -1.57079632679 -1.57079632679" xyz="-0.001 0.091 0"/>
    <axis xyz="0 0 1"/>
    <parent link="torso"/>
    <child link="left_hip_roll"/>
    <limit effort="1.4" lower="-1.0472" upper="1.0472" velocity="12.15"/>
  </joint>
  <joint name="hip_rotation_left" type="continuous">
    <origin rpy="0 -1.57079632679 0" xyz="-0.0505 0 0.044"/>
    <axis xyz="0 0 1"/>
    <parent link="left_hip_roll"/>
    <child link="left_hip_yaw"/>
    <limit effort="1.4" lower="-0.698132" upper="0.698132" velocity="12.15"/>
  </joint>
  <joint name="hip_flexion_left" type="continuous">
    <origin rpy="-1.57079632679 -0.785398163397 3.14159265359" xyz="0 0.004 0.068"/>
    <axis xyz="0 0 -1"/>
    <parent link="left_hip_yaw"/>
    <child link="left_hip_pitch"/>
    <limit effort="12.5" lower="-1.0472" upper="1.57079632679" velocity="8.5"/>
  </joint>
  <joint name="knee_joint_left" type="continuous">
    <origin rpy="0 0 -1.17079632679" xyz="0.12 0 0.0045"/>
    <axis xyz="0 0 1"/>
    <parent link="left_hip_pitch"/>
    <child link="left_knee"/>
    <limit effort="12.5" lower="-1.2392" upper="0.8727" velocity="8.5085"/>
  </joint>
  <joint name="knee_to_shin_left" type="continuous">
    <origin rpy="0 0 0" xyz="0.060677 0.047406 0"/>
    <axis xyz="0 0 1"/>
    <parent link="left_knee"/>
    <child link="left_shin"/>
    <limit effort="0" lower="-0.35" upper="0.35" velocity="10"/>
  </joint>
  <joint name="shin_to_tarsus_left" type="continuous">
    <origin rpy="0 0 1.7976891" xyz="0.434759 0.02 0"/>
    <axis xyz="0 0 1"/>
    <parent link="left_shin"/>
    <child link="left_tarsus"/>
    <limit effort="0" lower="-0.8779" upper="1.2497" velocity="20"/>
  </joint>
  <joint name="toe_pitch_joint_left" type="continuous">
    <origin rpy="0 0 0.7" xyz="0.408 -0.04 0"/>
    <axis xyz="0 0 1"/>
    <parent link="left_tarsus"/>
    <child link="left_toe_pitch"/>
    <limit effort="0.9" lower="-0.785398163397" upper="0.785398163397" velocity="11.5"/>
  </joint>
  <joint name="toe_roll_joint_left" type="continuous">
    <origin rpy="0 1.57079632679 0" xyz="0 0 0"/>
    <axis xyz="0 0 1"/>
    <parent link="left_toe_pitch"/>
    <child link="left_toe_roll"/>
    <limit effort="0.9" lower="-0.6109" upper="0.6109" velocity="11.5"/>
  </joint>
  

  <joint name="hip_abduction_right" type="continuous">
    <origin rpy="-1.57079632679 -1.57079632679 1.57079632679" xyz="-0.001 -0.091 0"/>
    <axis xyz="0 0 1"/>
    <parent link="torso"/>
    <child link="right_hip_roll"/>
    <limit effort="1.4" lower="-1.0472" upper="1.0472" velocity="12.15"/>
  </joint>
  <joint name="hip_rotation_right" type="continuous">
    <origin rpy="0 -1.57079632679 0" xyz="-0.0505 0 0.044"/>
    <axis xyz="0 0 1"/>
    <parent link="right_hip_roll"/>
    <child link="right_hip_yaw"/>
    <limit effort="1.4" lower="-0.698132" upper="0.698132" velocity="12.15"/>
  </joint>
  <joint name="hip_flexion_right" type="continuous">
    <origin rpy="1.57079632679 -0.785398163397 -3.14159265359" xyz="0 -0.004 0.068"/>
    <axis xyz="0 0 -1"/>
    <parent link="right_hip_yaw"/>
    <child link="right_hip_pitch"/>
    <limit effort="12.5" lower="-1.57079632679" upper="1.0472" velocity="8.5"/>
  </joint>
  <joint name="knee_joint_right" type="continuous">
    <origin rpy="0 0 1.17079632679" xyz="0.12 0 0.0045"/>
    <axis xyz="0 0 1"/>
    <parent link="right_hip_pitch"/>
    <child link="right_knee"/>
    <limit effort="12.5" lower="-0.8727" upper="1.2392" velocity="8.5085"/>
  </joint>
  <joint name="knee_to_shin_right" type="continuous">
    <origin rpy="0 0 0" xyz="0.060677 -0.047406 0"/>
    <axis xyz="0 0 1"/>
    <parent link="right_knee"/>
    <child link="right_shin"/>
    <limit effort="0" lower="-0.35" upper="0.35" velocity="10"/>
  </joint>
  <joint name="shin_to_tarsus_right" type="continuous">
    <origin rpy="0 0 -1.7976891" xyz="0.434759 -0.02 0"/>
    <axis xyz="0 0 1"/>
    <parent link="right_shin"/>
    <child link="right_tarsus"/>
    <limit effort="0" lower="-1.2497" upper="0.8779" velocity="20"/>
  </joint>
  <joint name="toe_pitch_joint_right" type="continuous">
    <origin rpy="0 0 -0.7" xyz="0.408 0.04 0"/>
    <axis xyz="0 0 1"/>
    <parent link="right_tarsus"/>
    <child link="right_toe_pitch"/>
    <limit effort="0.9" lower="-0.785398163397" upper="0.785398163397" velocity="11.5"/>
  </joint>
  <joint name="toe_roll_joint_right" type="continuous">
    <origin rpy="0 1.57079632679 0" xyz="0 0 0"/>
    <axis xyz="0 0 1"/>
    <parent link="right_toe_pitch"/>
    <child link="right_toe_roll"/>
    <limit effort="0.9" lower="-0.6109" upper="0.6109" velocity="11.5"/>
  </joint>

   

<!-- joint to freight base -->
<joint name="digit_to_freight" type="fixed">
    <origin rpy="0 0 0" xyz="0 0  0.9"/>
    <parent link="base_link"/>
    <child link="torso"/>
</joint>


<link name="footprint"/>
<joint name="footprint_to_base" type="fixed">
  <parent link="footprint"/>
  <child link="base_link"/>
</joint>


<link name="base_link">
    <inertial>
      <origin rpy="0 0 0" xyz="-0.0036 0.0 0.0014" />
      <mass value="100.1294" />
      <inertia ixx="1.225" ixy="0.0099" ixz="0.0062" iyy="1.2853" iyz="-0.0034" izz="0.987" />
    </inertial>
    <visual>
      <origin rpy="0 0 0" xyz="0 0 0" />
      <geometry>
        <!-- <mesh filename="[local-path]/garage/kfp_v2/morpheus/models/fetch_description/robots/meshes/base_link.dae" /> -->
        <box size="0.01 0.01 0.01"/>
      </geometry>
      <material name="one">
        <color rgba="0.356 0.361 0.376 1" />
      </material>
    </visual>
    <collision>
      <origin rpy="0 0 0" xyz="0 0 0" />
      <geometry>
        <mesh filename="[local-path]/garage/kfp_v2/morpheus/models/fetch_description/robots/meshes/base_link_collision.STL" />
      </geometry>
    </collision>
  </link>
  <link name="r_wheel_link">
    <inertial>
      <origin rpy="0 0 0" xyz="0 0 0" />
      <mass value="4.3542" />
      <inertia ixx="0.0045" ixy="0" ixz="0" iyy="0.005" iyz="0" izz="0.0045" />
    </inertial>
    <visual>
      <origin rpy="0 0 0" xyz="0 0 0" />
      <geometry><!-- 
        <mesh filename="[local-path]/garage/kfp_v2/morpheus/models/fetch_description/robots/meshes/r_wheel_link.STL" /> -->
        <box size="0.01 0.01 0.01"/>
      </geometry>
      <material name="two">
        <color rgba="0.086 0.506 0.767 1" />
      </material>
    </visual>
    <collision>
      <origin rpy="0 0 0" xyz="0 0 0" />
      <geometry>
        <mesh filename="[local-path]/garage/kfp_v2/morpheus/models/fetch_description/robots/meshes/r_wheel_link_collision.STL" />
      </geometry>
    </collision>
  </link>
  <joint name="r_wheel_joint" type="continuous">
    <origin rpy="-6.123E-17 0 0" xyz="0.0012914 -0.18738 0.055325" />
    <parent link="base_link" />
    <child link="r_wheel_link" />
    <axis xyz="0 1 0" />
  <limit effort="8.85" velocity="34.8" /></joint>
  <link name="l_wheel_link">
    <inertial>
      <origin rpy="0 0 0" xyz="0 0 0" />
      <mass value="4.3542" />
      <inertia ixx="0.0045" ixy="0" ixz="0" iyy="0.005" iyz="0" izz="0.0045" />
    </inertial>
    <visual>
      <origin rpy="0 0 0" xyz="0 0 0" />
      <geometry>
        <!-- <mesh filename="[local-path]/garage/kfp_v2/morpheus/models/fetch_description/robots/meshes/l_wheel_link.STL" /> -->
        <box size="0.01 0.01 0.01"/>
      </geometry>
      <material name="three">
        <color rgba="0.086 0.506 0.767 1" />
      </material>
    </visual>
    <collision>
      <origin rpy="0 0 0" xyz="0 0 0" />
      <geometry>
        <mesh filename="[local-path]/garage/kfp_v2/morpheus/models/fetch_description/robots/meshes/l_wheel_link_collision.STL" />
      </geometry>
    </collision>
  </link>
  <joint name="l_wheel_joint" type="continuous">
    <origin rpy="-6.123E-17 0 0" xyz="0.0012914 0.18738 0.055325" />
    <parent link="base_link" />
    <child link="l_wheel_link" />
    <axis xyz="0 1 0" />
  <limit effort="8.85" velocity="34.8" />
</joint>
  <link name="estop_link">
    <inertial>
      <origin rpy="0 0 0" xyz="0.002434512737072 -0.00330608315239905 0.00665139196650039" />
      <mass value="0.00196130439134723" />
      <inertia ixx="3.02810026604417E-07" ixy="-1.5862023118056E-08" ixz="3.16561396557437E-08" iyy="2.93322917127605E-07" iyz="-4.28833522751273E-08" izz="2.28513272627183E-07" />
    </inertial>
    <visual>
      <origin rpy="0 0 0" xyz="0 0 0" />
      <geometry>
       <!--  <mesh filename="[local-path]/garage/kfp_v2/morpheus/models/fetch_description/robots/meshes/estop_link.STL" /> -->
        <box size="0.01 0.01 0.01"/>
      </geometry>
      <material name="four">
        <color rgba="0.8 0 0 1" />
      </material>
    </visual>
    <collision>
      <origin rpy="0 0 0" xyz="0 0 0" />
      <geometry>
        <mesh filename="[local-path]/garage/kfp_v2/morpheus/models/fetch_description/robots/meshes/estop_link.STL" />
      </geometry>
    </collision>
  </link>
  <joint name="estop_joint" type="fixed">
    <origin rpy="1.5708 0 0" xyz="-0.12465 0.23892 0.31127" />
    <parent link="base_link" />
    <child link="estop_link" />
    <axis xyz="0 0 0" />
  </joint>
  <link name="laser_link">
    <inertial>
      <origin rpy="0 0 0" xyz="-0.0306228970175641 0.0007091682908278 0.0551974119471302" />
      <mass value="0.00833634573995571" />
      <inertia ixx="1.01866461240801E-06" ixy="-5.88447626567756E-08" ixz="7.83857244757914E-08" iyy="5.10039589974707E-07" iyz="-7.12664289617235E-09" izz="1.28270671527309E-06" />
    </inertial>
    <visual>
      <origin rpy="0 0 0" xyz="0 0 0" />
      <geometry>
       <!--  <mesh filename="[local-path]/garage/kfp_v2/morpheus/models/fetch_description/robots/meshes/laser_link.STL" /> -->
       <box size="0.001 0.001 0.001"/>
      </geometry>
      <material name="five">
        <color rgba="0.792156862745098 0.819607843137255 0.933333333333333 1" />
      </material>
    </visual>
    <collision>
      <origin rpy="0 0 0" xyz="0 0 0" />
      <geometry>
        <mesh filename="[local-path]/garage/kfp_v2/morpheus/models/fetch_description/robots/meshes/laser_link.STL" />
      </geometry>
    </collision>
  </link>
  <joint name="laser_joint" type="fixed">
    <origin rpy="3.14159265359 0 0" xyz="0.235 0 0.2878" />
    <parent link="base_link" />
    <child link="laser_link" />
    <axis xyz="0 0 0" />
  </joint>
  <link name="base_camera_link" />
  <joint name="base_camera_joint" type="fixed">
    <origin rpy="0 -0.17453292519943 0" xyz="0.2645 0 0.198" />
    <parent link="base_link" />
    <child link="base_camera_link" />
  </joint>
  <link name="base_camera_optical_frame" />
  <joint name="base_camera_optical_joint" type="fixed">
    <origin rpy="1.5707963267966 0 1.5707963267966" xyz="0 0 0" />
    <parent link="base_camera_link" />
    <child link="base_camera_optical_frame" />
  </joint>







</robot>
